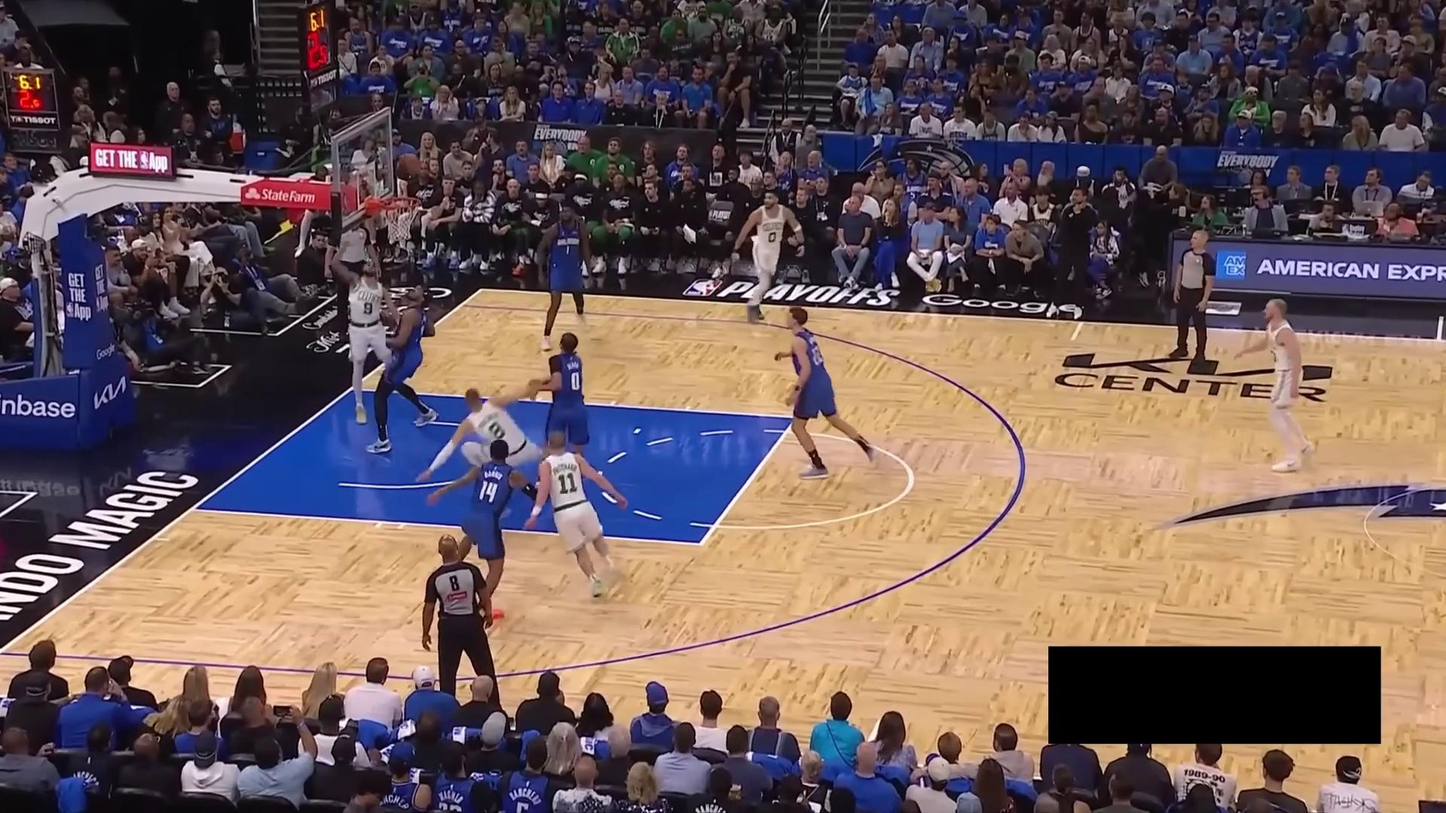ball: (396, 152, 422, 179)
number: (556, 470, 579, 495), (477, 481, 500, 503), (488, 419, 508, 439), (809, 344, 825, 366), (569, 371, 581, 393), (363, 302, 373, 315), (768, 231, 776, 243), (566, 245, 570, 255)
player: (428, 439, 548, 623), (520, 429, 633, 600), (775, 303, 879, 480), (414, 378, 543, 518), (325, 239, 411, 424), (1231, 295, 1317, 477), (362, 280, 436, 457), (531, 329, 591, 507), (728, 190, 809, 319), (534, 205, 593, 354)
referee: (419, 531, 505, 715), (323, 215, 383, 347), (1164, 229, 1215, 366)
rim: (385, 197, 422, 208)
